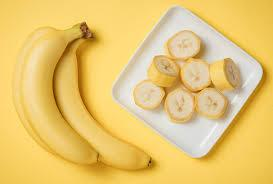banana: (12, 21, 152, 172), (133, 28, 243, 125)
